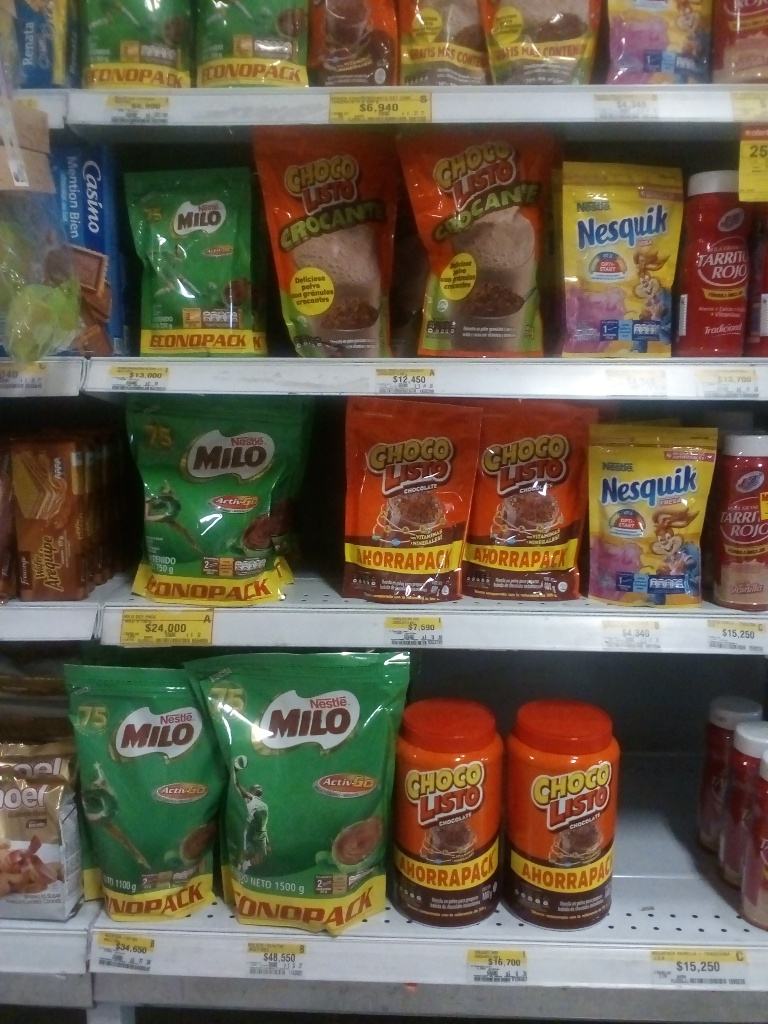COL0170102DYP50000: (393, 124, 558, 359)
COL0170103DYP40000: (343, 396, 480, 608)
COL0170103TRR00100: (502, 690, 632, 931)
COL0170203DYP10000: (122, 173, 263, 359)
COL0170305DYP20000: (555, 158, 683, 361)
